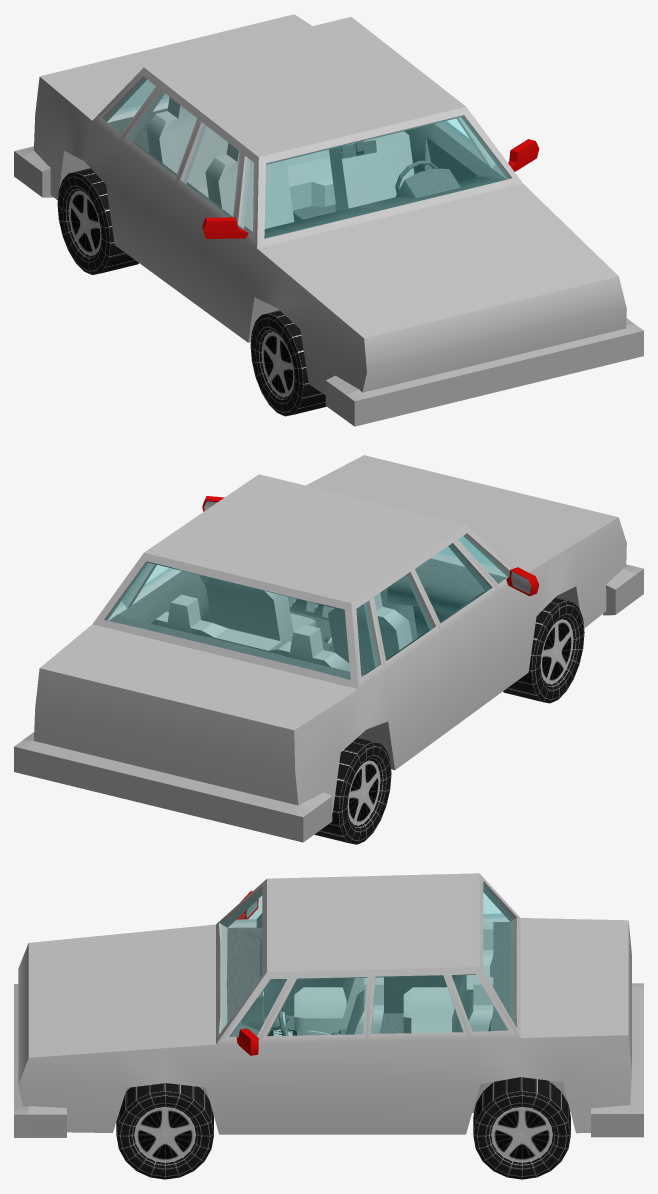
The model's file is CARRO1PP.fbx.
3 views of the same model, one above another, from view 1: azimuth 30°, elevation 25°; view 2: azimuth 150°, elevation 25°; view 3: azimuth 270°, elevation 25° (orthographic). The views are drawn at different scales.
Parts seen in each view (by area): view 1: pCube5, pCube44, pCube7, pCube12, pCube36, pCylinder13, pCylinder14, pCube22, pCube35, pCube50, pCube48, pCube9 (+5 smaller); view 2: pCube5, pCube45, pCube9, pCube12, pCylinder14, pCylinder13, pCube22, pCube36, pCube48, pCube35, pCube50, pCube7 (+3 smaller); view 3: pCube5, pCylinder7, pCylinder3, pCube12, pCube47, pCube49, pCube36, pCube44, pCube9, pCube35, pCube45, pCube7 (+5 smaller).
Boxes of the visible parts, bbox=[...] form: pCube5: bbox=[34, 14, 626, 394]; pCube44: bbox=[265, 116, 509, 237]; pCube7: bbox=[325, 318, 643, 426]; pCube12: bbox=[108, 108, 506, 238]; pCube36: bbox=[147, 97, 335, 210]; pCylinder13: bbox=[250, 310, 326, 416]; pCylinder14: bbox=[57, 168, 138, 274]; pCube22: bbox=[329, 131, 414, 211]; pCube35: bbox=[205, 143, 294, 231]; pCube50: bbox=[128, 92, 196, 175]; pCube48: bbox=[184, 125, 238, 216]; pCube9: bbox=[14, 146, 53, 197]; pCube5: bbox=[34, 455, 626, 812]; pCube45: bbox=[106, 562, 349, 678]; pCube9: bbox=[14, 732, 332, 842]; pCube12: bbox=[109, 558, 506, 679]; pCylinder14: bbox=[314, 737, 391, 844]; pCylinder13: bbox=[503, 597, 584, 703]; pCube22: bbox=[205, 578, 315, 641]; pCube36: bbox=[151, 594, 349, 671]; pCube48: bbox=[415, 545, 489, 622]; pCube35: bbox=[328, 593, 412, 674]; pCube50: bbox=[374, 574, 431, 660]; pCube7: bbox=[603, 564, 643, 615]; pCube5: bbox=[18, 873, 631, 1134]; pCylinder7: bbox=[473, 1077, 570, 1179]; pCylinder3: bbox=[116, 1083, 213, 1179]; pCube12: bbox=[226, 922, 510, 1036]; pCube47: bbox=[268, 977, 366, 1035]; pCube49: bbox=[372, 975, 462, 1033]; pCube36: bbox=[403, 922, 493, 1033]; pCube44: bbox=[222, 890, 261, 1028]; pCube9: bbox=[591, 983, 643, 1137]; pCube35: bbox=[294, 978, 364, 1035]; pCube45: bbox=[484, 886, 513, 1021]; pCube7: bbox=[14, 984, 66, 1137].
Size of the model in its own units: 10.01 by 6.04 by 17.57.
